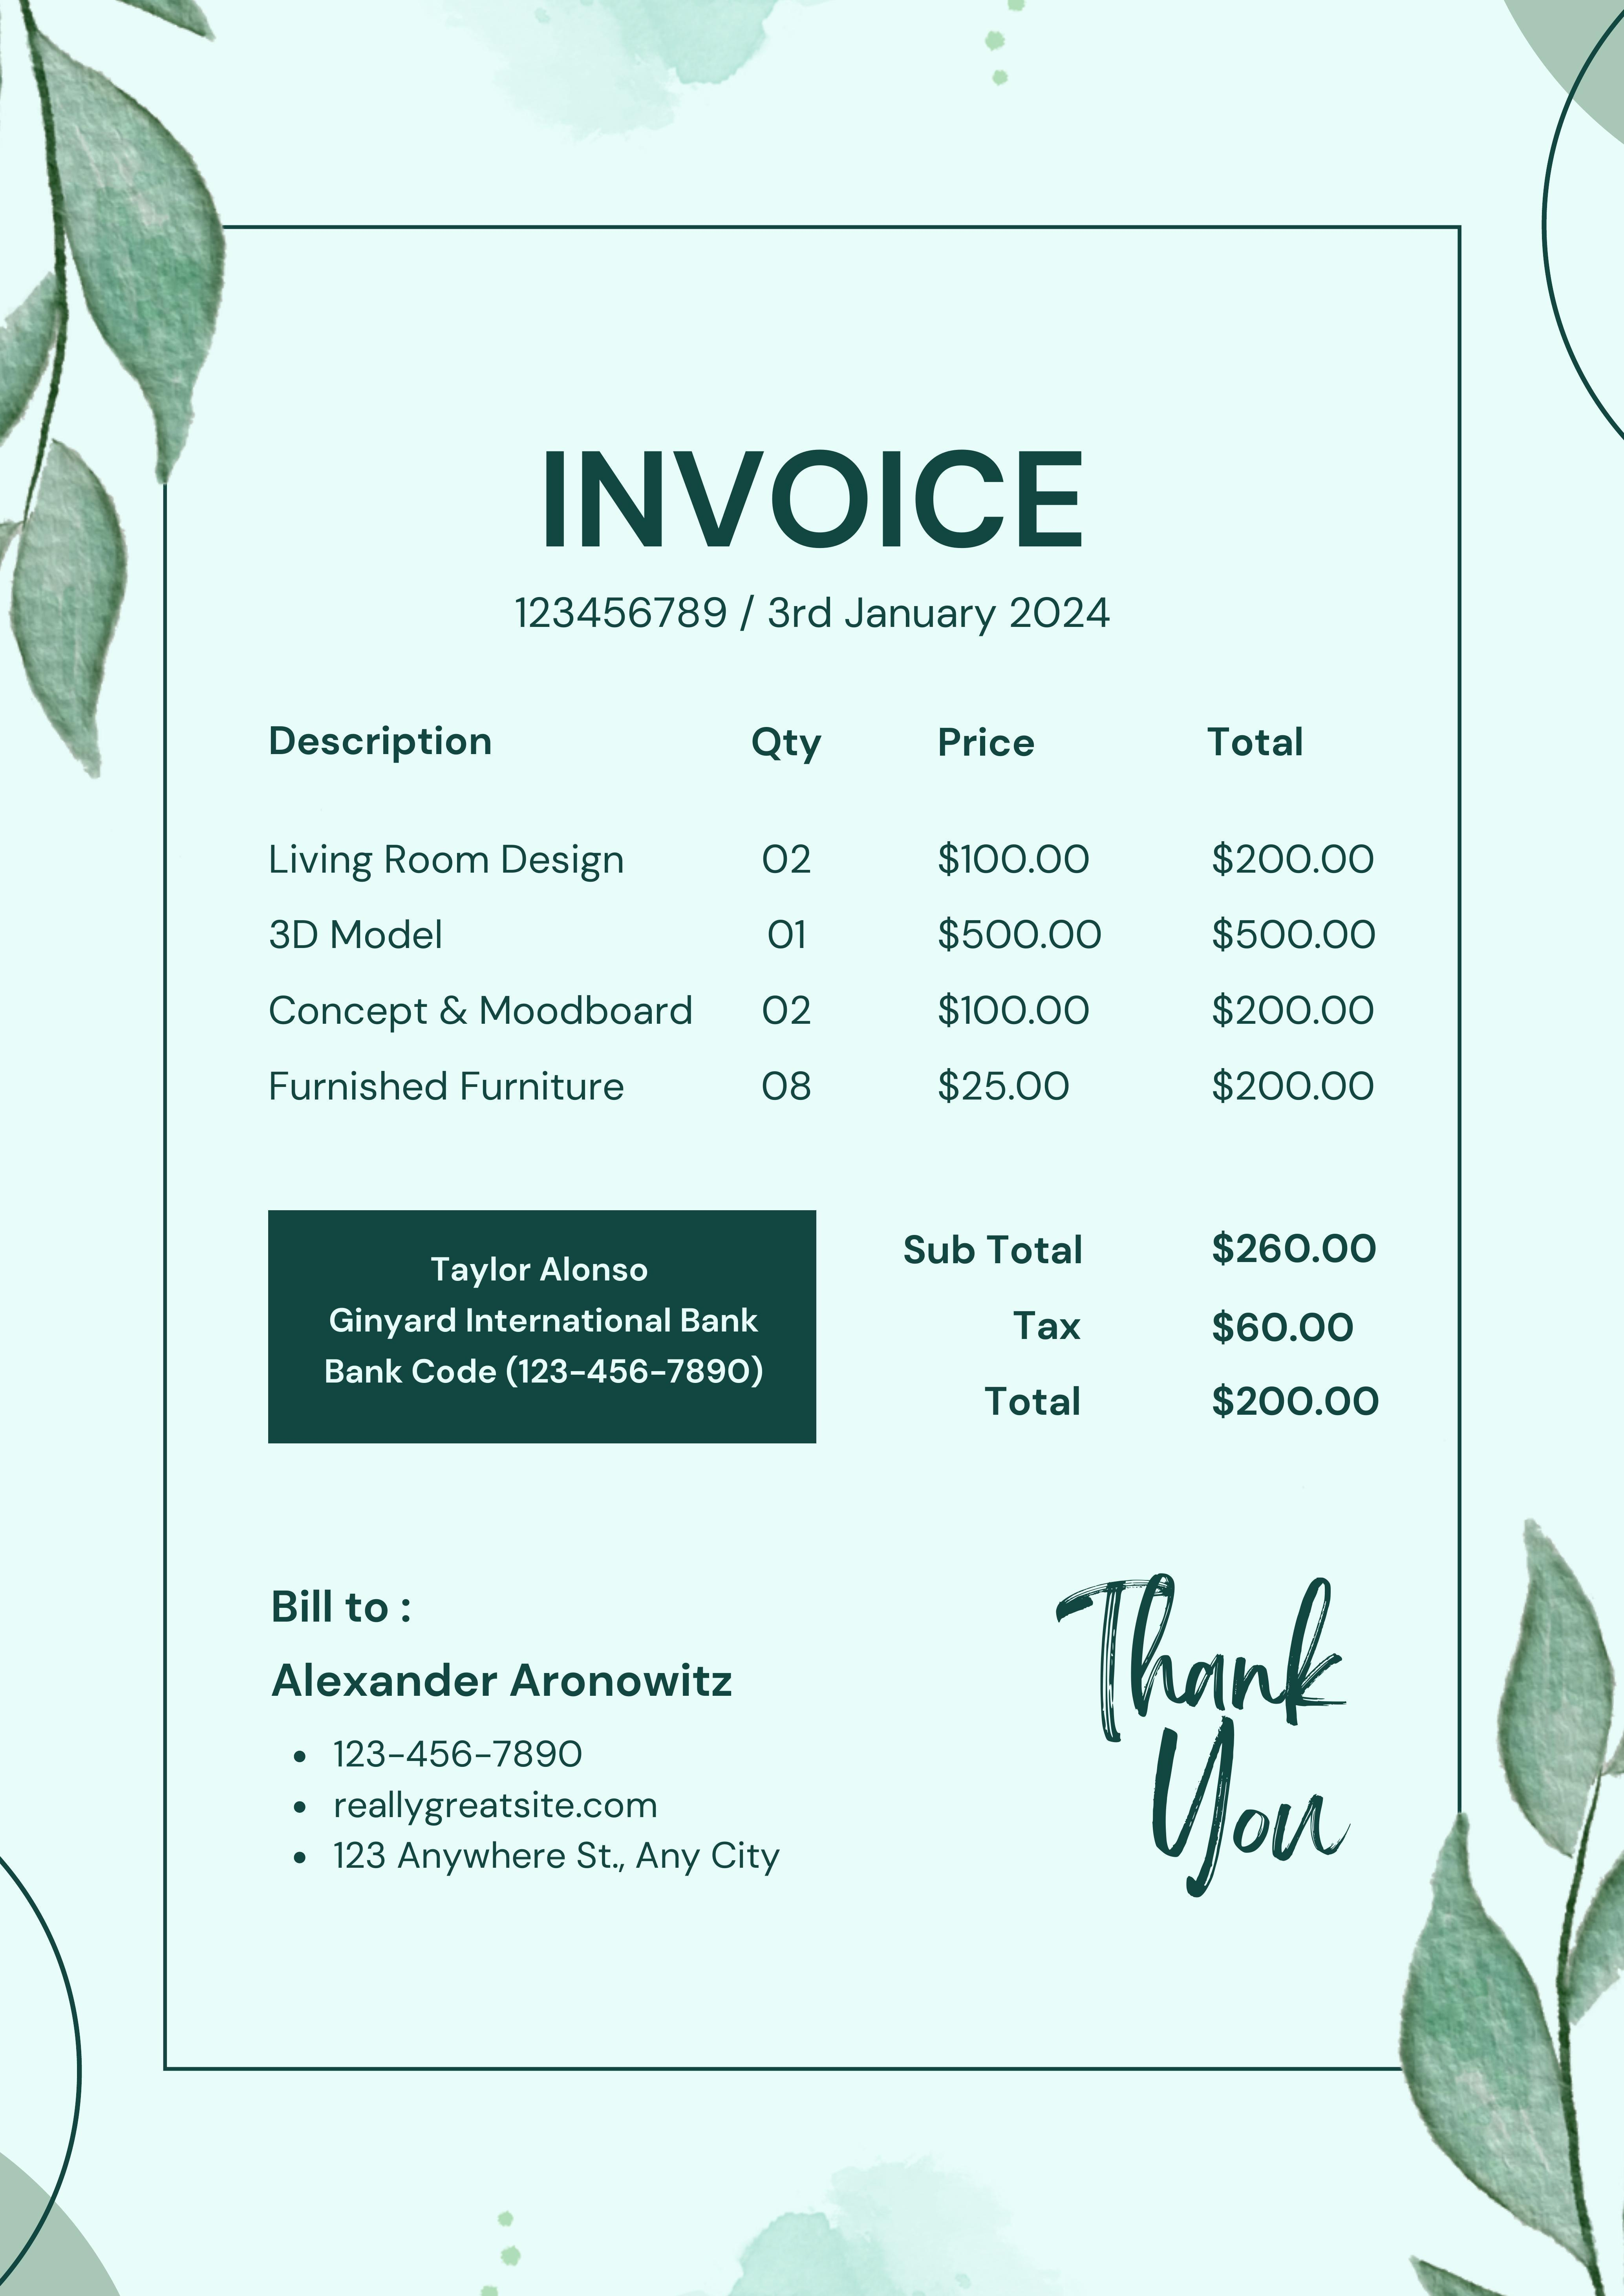ROI: (250, 701, 1403, 1131), (255, 1576, 793, 1901), (884, 1210, 1396, 1428), (301, 1228, 775, 1421), (506, 592, 1135, 634)
